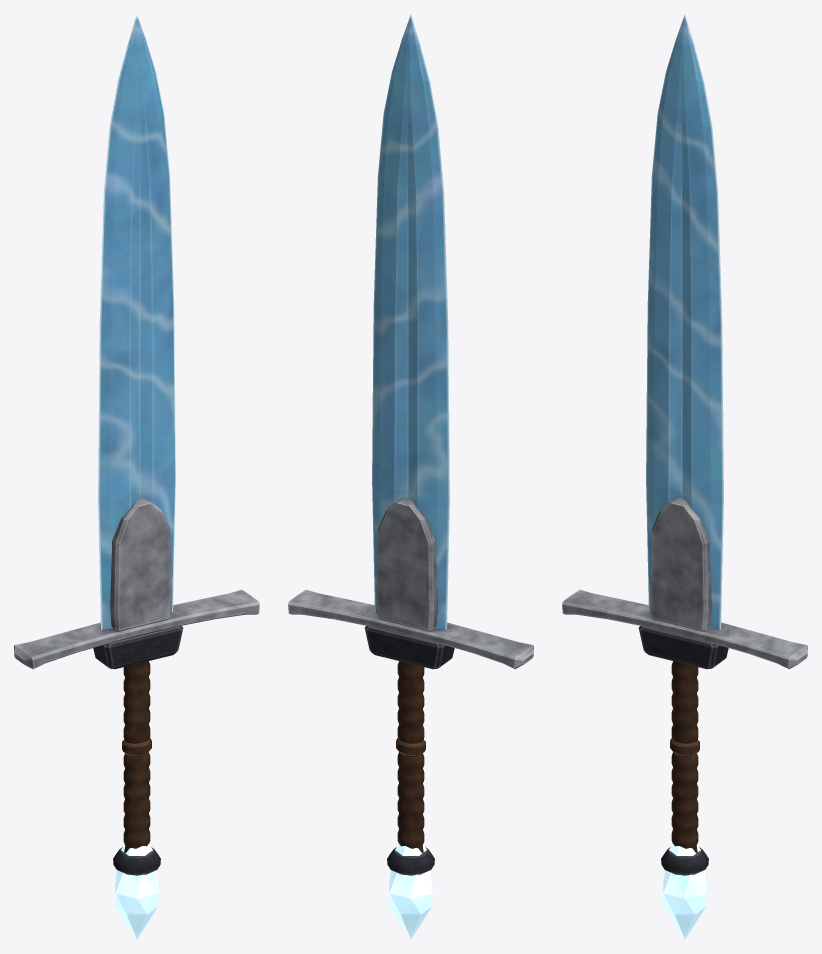
Rendered from crystal-weapon-greatsword.glb.
3 views of the same model, side by side, from view 1: azimuth 30°, elevation 25°; view 2: azimuth 150°, elevation 25°; view 3: azimuth 330°, elevation 25° (orthographic).
Visible parts, largest first — view 1: great-blade, guard-silver, twohand-grip, tip-core, guard, pommel-collar; view 2: great-blade, guard-silver, twohand-grip, tip-core, guard, pommel-collar; view 3: great-blade, guard-silver, twohand-grip, tip-core, guard, pommel-collar.
Boxes of the visible parts, x1,y1,x2,y2 form: great-blade: [98, 14, 175, 629]; guard-silver: [14, 498, 259, 669]; twohand-grip: [122, 661, 151, 852]; tip-core: [115, 844, 158, 939]; guard: [93, 626, 183, 669]; pommel-collar: [113, 847, 160, 875]; great-blade: [372, 14, 449, 629]; guard-silver: [288, 498, 533, 669]; twohand-grip: [396, 661, 425, 852]; tip-core: [389, 844, 432, 939]; guard: [364, 626, 454, 669]; pommel-collar: [387, 847, 434, 875]; great-blade: [646, 14, 723, 629]; guard-silver: [562, 498, 807, 669]; twohand-grip: [670, 661, 699, 852]; tip-core: [663, 844, 706, 939]; guard: [638, 626, 728, 669]; pommel-collar: [661, 847, 708, 875].
Bounding box in the file's own units: 0.5691 × 2.13 × 0.1.
Materials: 6 (6 with a texture image).
